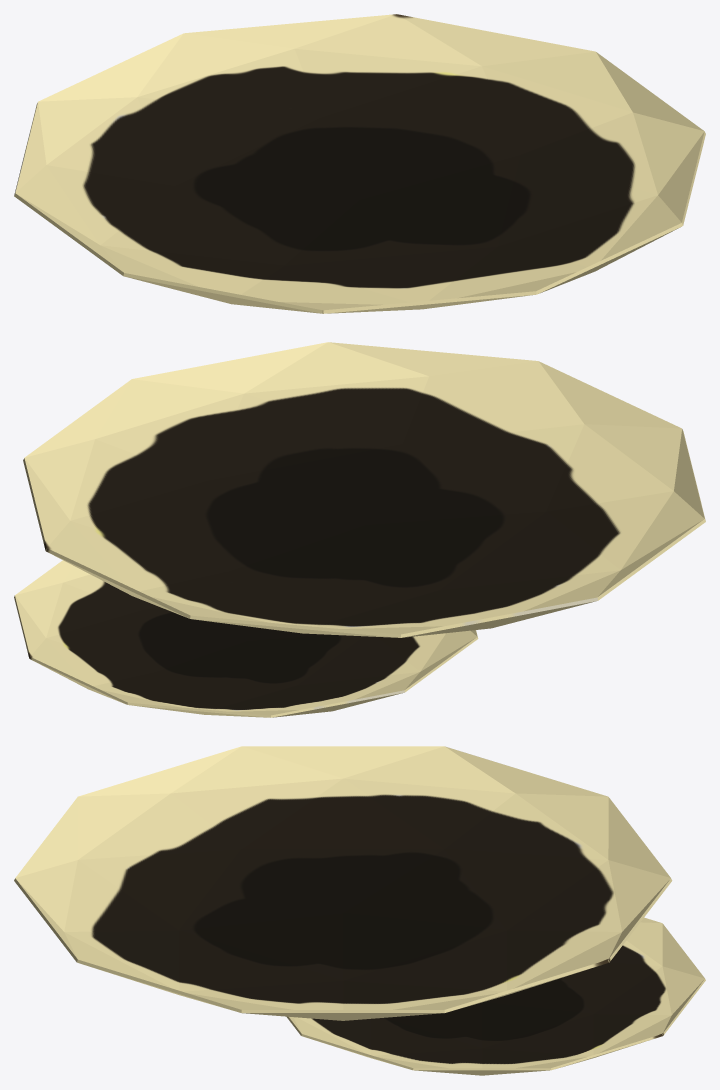
File: TurkTail1.fbx
The picture shows the model from 3 angles, top to bottom: view 1: azimuth 30°, elevation 25°; view 2: azimuth 150°, elevation 25°; view 3: azimuth 270°, elevation 25°; orthographic projection. The views are drawn at different scales.
Visible parts, largest first — view 1: Icosphere; view 2: Icosphere; view 3: Icosphere.
Boxes of the visible parts, x1,y1,x2,y2 form: Icosphere: [14, 14, 705, 313]; Icosphere: [14, 342, 705, 717]; Icosphere: [14, 746, 705, 1075].
Bounding box in the file's own units: 191 × 35.56 × 211.
